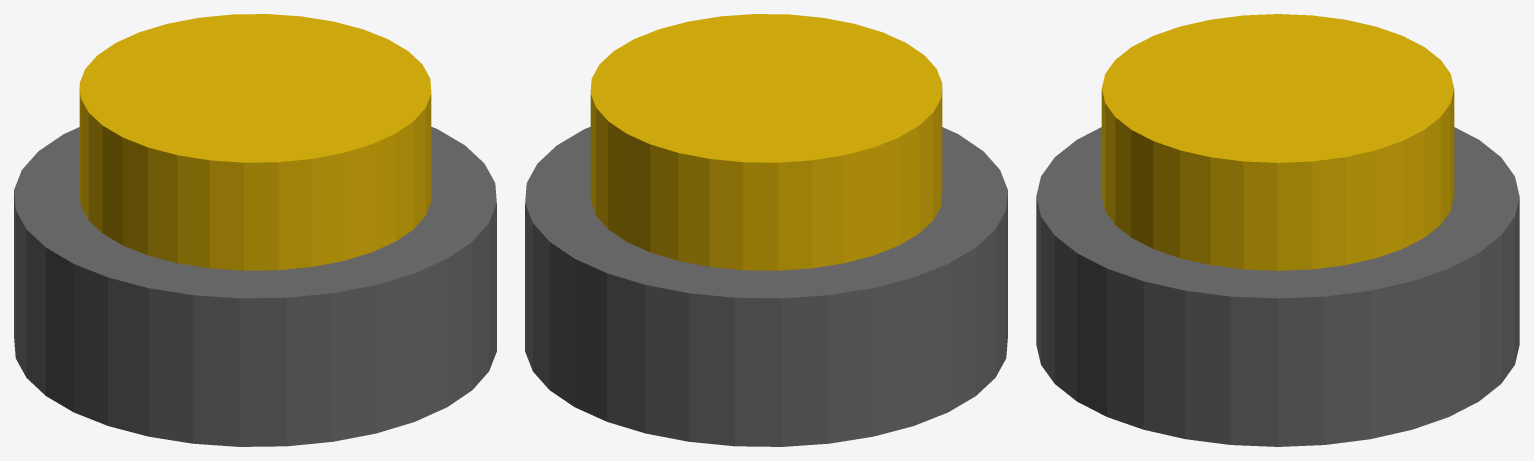
Rendered from YellowButton.glb.
3 renders of one model, left to right at view 1: azimuth 30°, elevation 25°; view 2: azimuth 150°, elevation 25°; view 3: azimuth 270°, elevation 25°, orthographic.
Parts seen in each view (by area): view 1: Base, Button; view 2: Base, Button; view 3: Base, Button.
Part boxes in pixels (box(x1,y1,x2,y2)): Base: box(14, 127, 496, 446); Button: box(79, 14, 431, 270); Base: box(525, 127, 1007, 446); Button: box(590, 14, 942, 270); Base: box(1036, 127, 1519, 446); Button: box(1101, 14, 1454, 270).
Size of the model in its own units: 0.9081 by 0.5316 by 0.9081.
